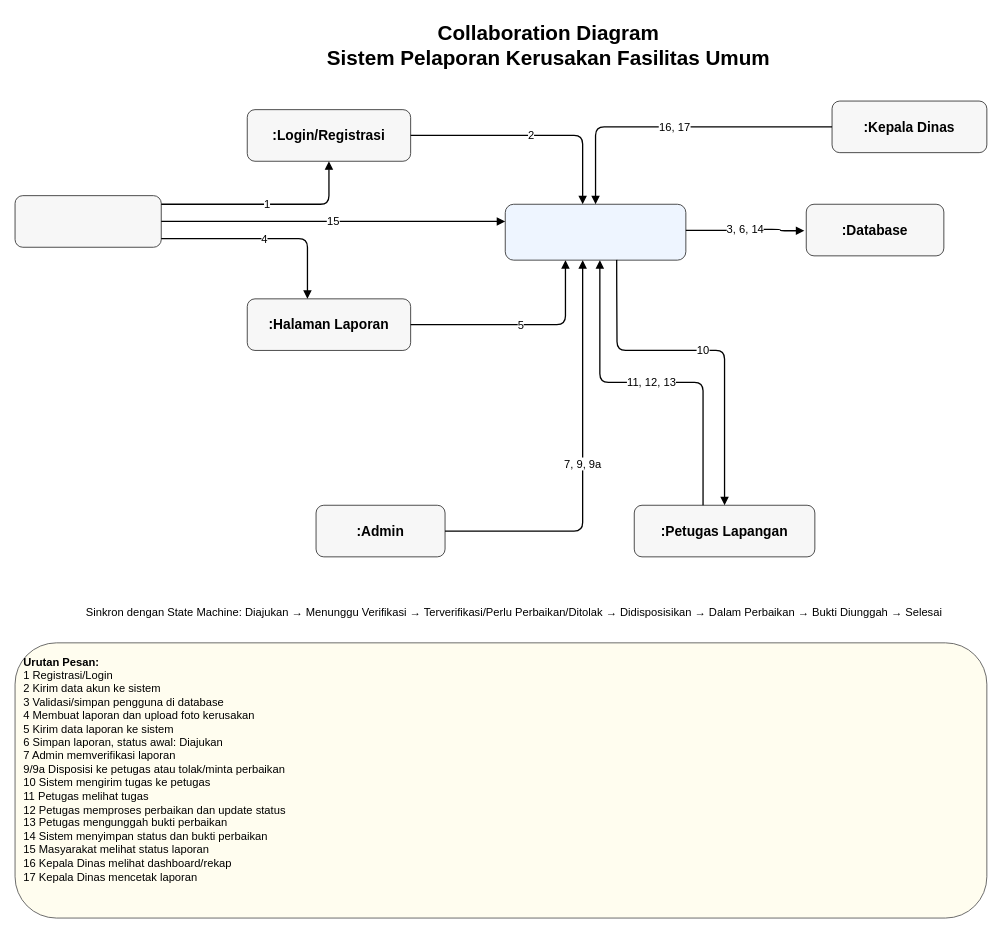
Image size: 1002x933. Some labels were removed from this diagram. Here are the shapes that lost their labels. From the top down, the box of each, then its label:
(14, 195, 161, 247): :Masyarakat
(504, 203, 686, 260): :Sistem Pelaporan
